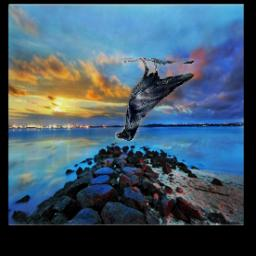Crow: (116, 58, 195, 141)
